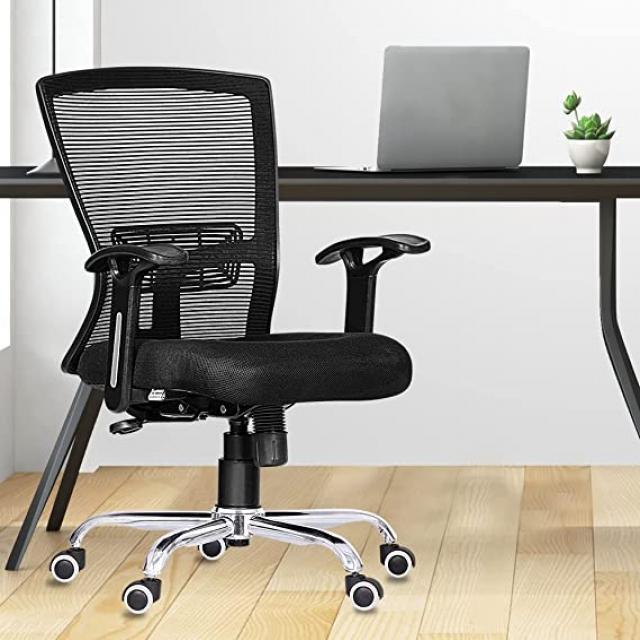chair: (17, 43, 440, 625)
